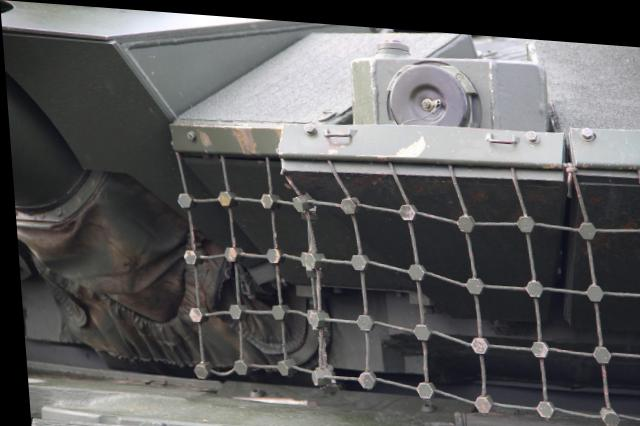tank: (17, 1, 640, 360)
